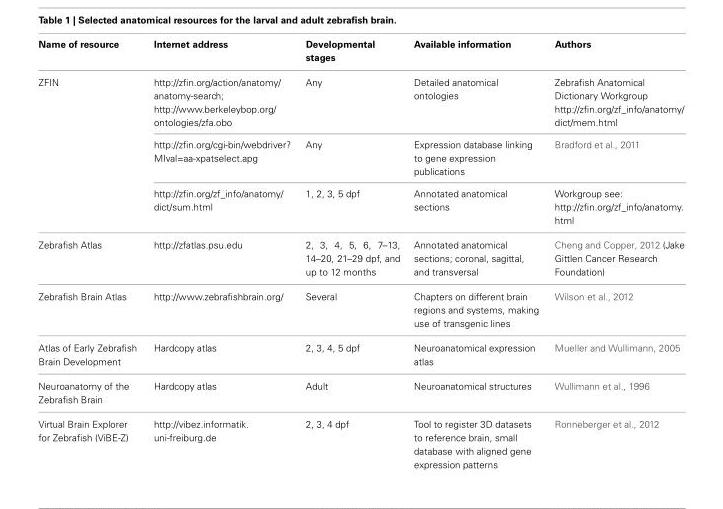table: (37, 37, 683, 469)
table column: (144, 37, 297, 469), (406, 37, 545, 469), (545, 37, 683, 469), (297, 37, 406, 469), (37, 37, 144, 469)
table column header: (37, 37, 683, 69)
table row: (37, 69, 683, 132), (37, 411, 683, 469), (37, 231, 683, 283), (37, 283, 683, 334), (37, 181, 683, 231), (37, 132, 683, 181), (37, 334, 683, 373), (37, 373, 683, 411), (37, 37, 683, 69)
table spanning cell: (37, 69, 144, 231)
